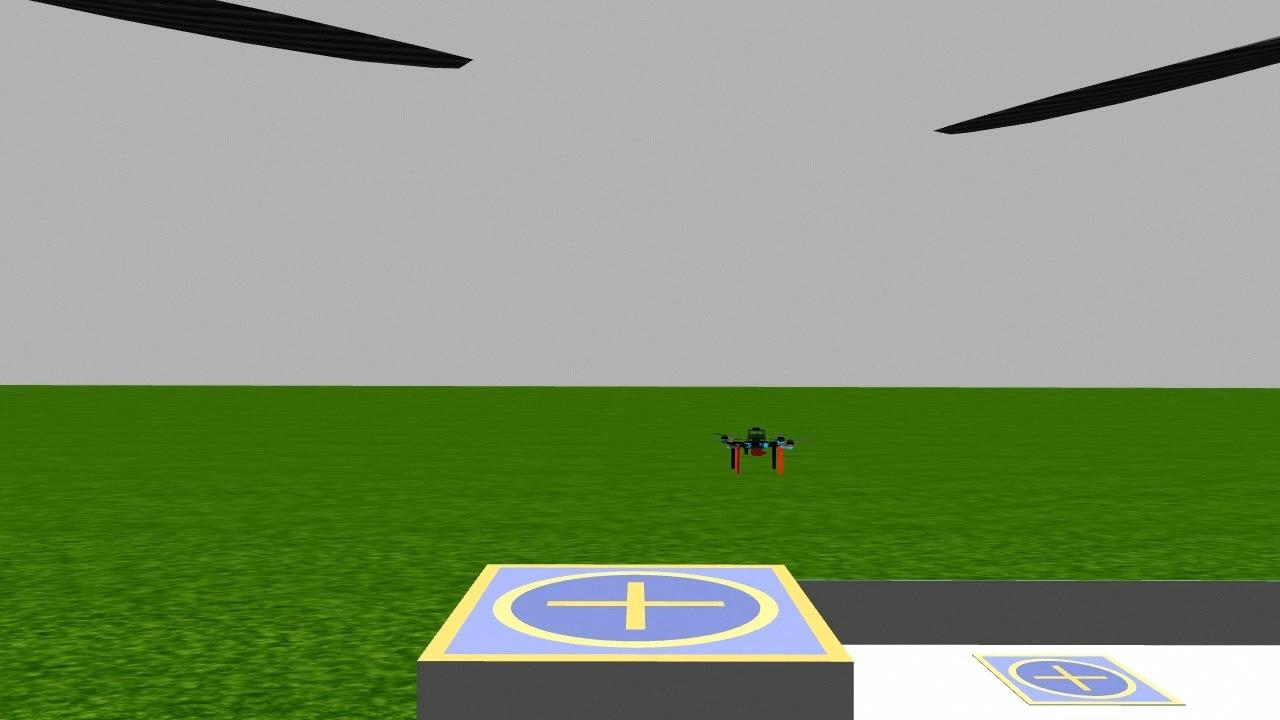UAV: (717, 406, 812, 488)
